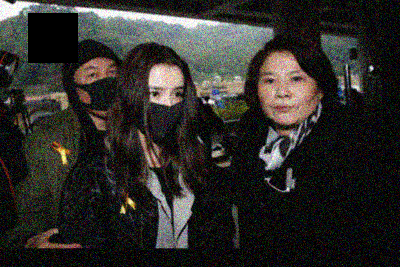with_mask: (136, 84, 188, 144), (73, 61, 122, 121)
without_mask: (255, 68, 321, 127)
